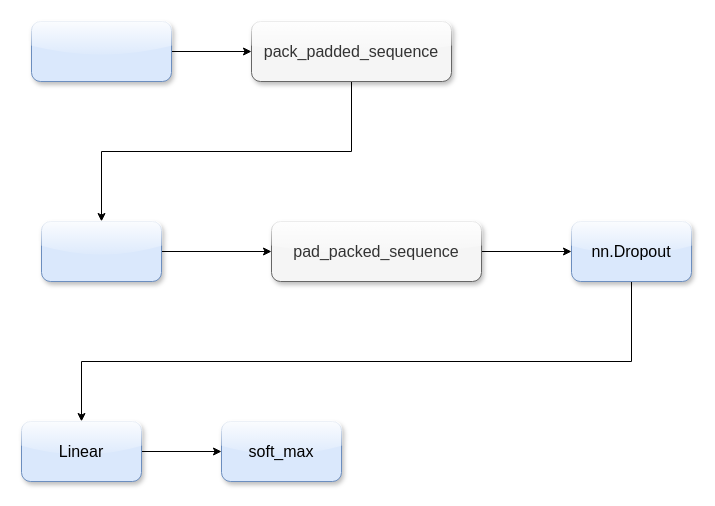
This 715x506 diagram has some shape labels left out. Here are the shapes that lost their labels. From the top down, the centre of each, then its label:
(102,52): nn.Embedding
(102,252): LSTM
